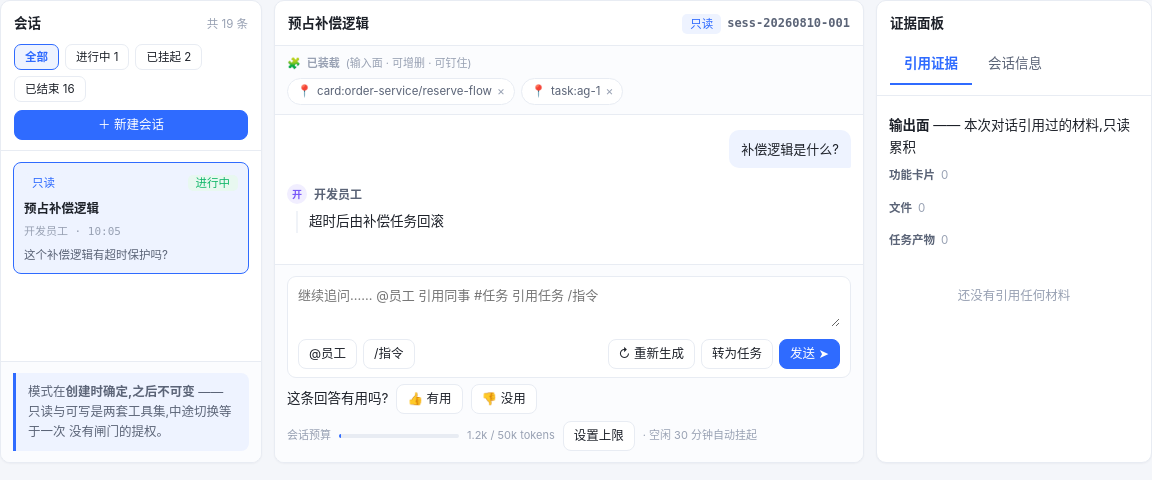
it: 反馈进化 › credits the loaded cards when the answer helped
Expected: the text "超时后由补偿任务回滚" is shown, [309,213,444,229]
Click the button "👍 有用" at [429, 399], box [396,384,462,414]
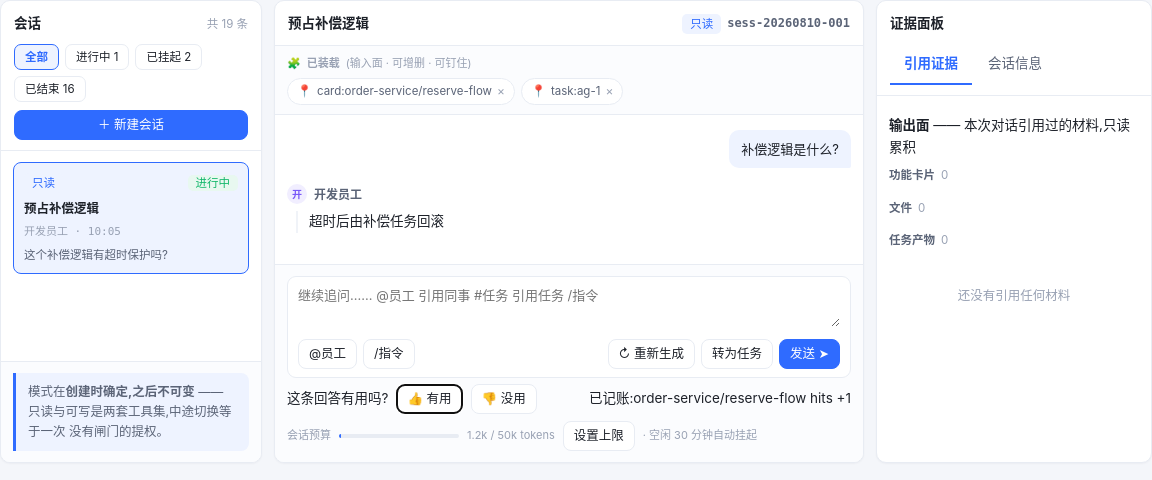
Expected: the text "已记账:order-service/reserve-flow hits +1" is shown, [589,388,851,410]
